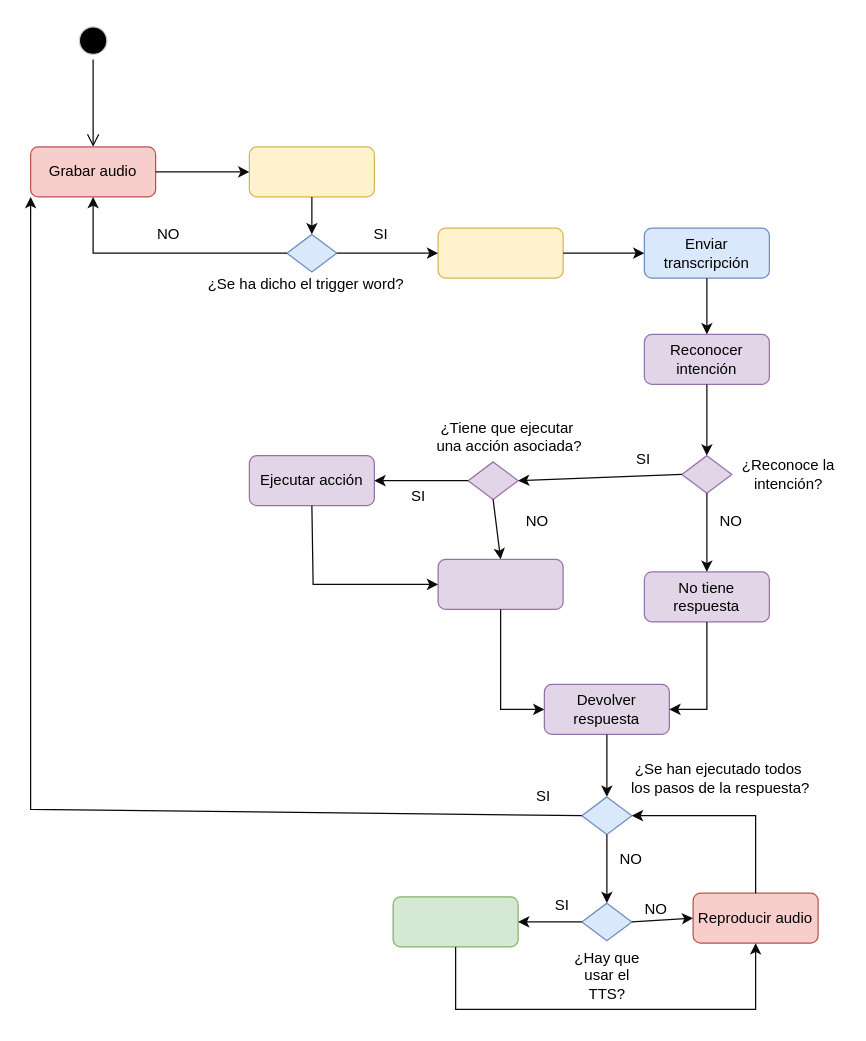
The diagram is 866 pixels wide and 1041 high, and some of its shapes have lost their labels. Each missing label, with the box of its shape:
Leer respuesta: (392, 896, 518, 947)
Procesar respuesta: (437, 558, 563, 609)
Reconocer audio: (248, 146, 374, 197)
Transcribir audio: (437, 227, 563, 278)
